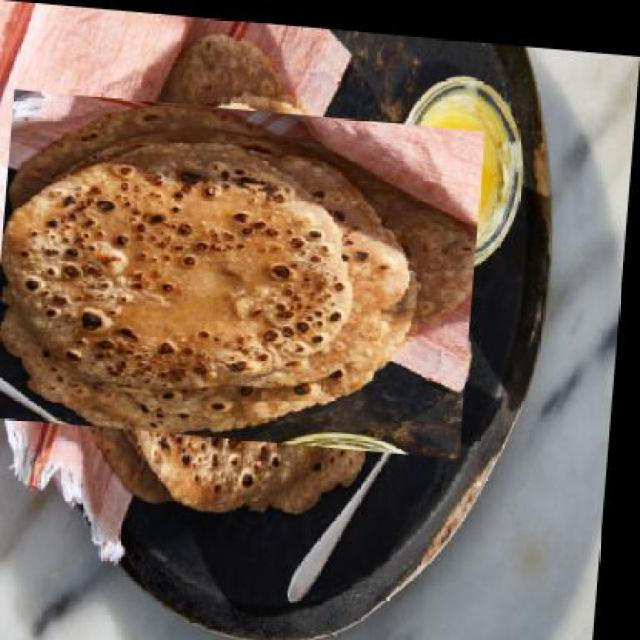chapati: (28, 57, 454, 486)
